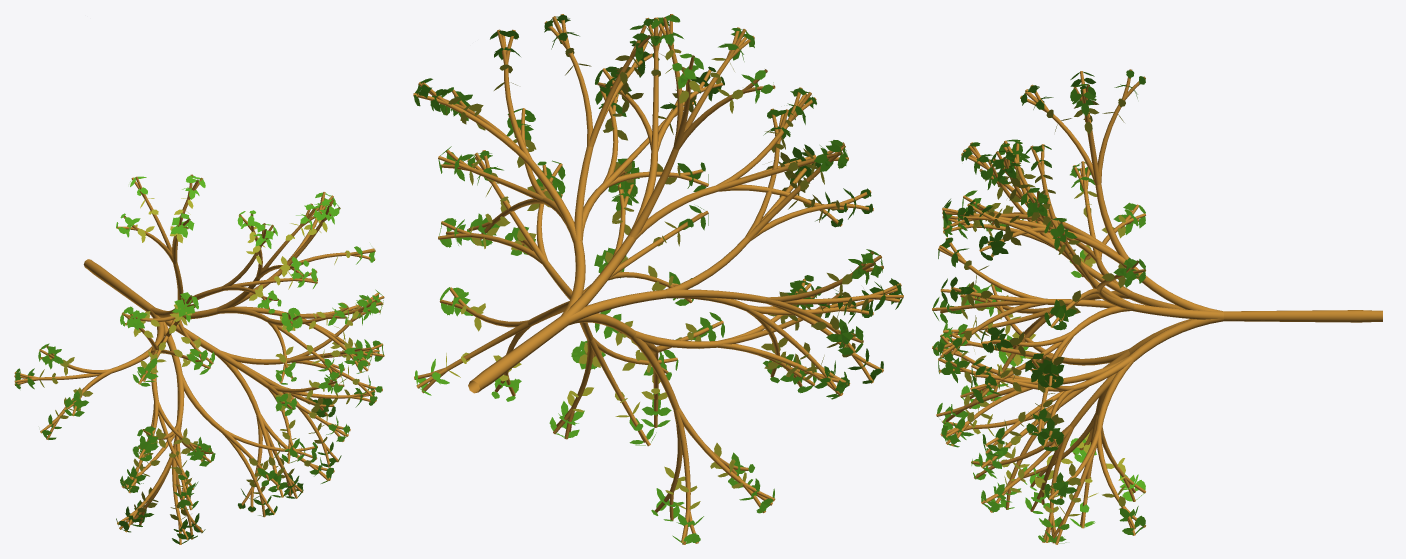
Rendered from schoute.obj.
3 renders of one model, left to right at view 1: azimuth 30°, elevation 25°; view 2: azimuth 150°, elevation 25°; view 3: azimuth 270°, elevation 25°, orthographic. The views are drawn at different scales.
Visible parts, largest first — view 1: SHAPEID_1_140482839329184; view 2: SHAPEID_1_140482839329184, SHAPEID_2829_140482839329488, SHAPEID_13_140482838718896, SHAPEID_30_140482908652496, SHAPEID_2846_140482839272608, SHAPEID_2241_140482839062144, SHAPEID_470_140482838715040, SHAPEID_2061_140482839093152, SHAPEID_2044_140482839212208, SHAPEID_3055_140482839319520, SHAPEID_675_140482838793264, SHAPEID_1009_140482838832144 (+3 smaller); view 3: SHAPEID_1_140482839329184, SHAPEID_1241_140482839042048, SHAPEID_2044_140482839212208, SHAPEID_2829_140482839329488, SHAPEID_2846_140482839272608.
Part boxes in pixels (bbox=[...]): SHAPEID_1_140482839329184: bbox=[83, 259, 154, 311]; SHAPEID_1_140482839329184: bbox=[468, 315, 569, 393]; SHAPEID_2829_140482839329488: bbox=[565, 235, 635, 317]; SHAPEID_13_140482838718896: bbox=[568, 289, 666, 325]; SHAPEID_30_140482908652496: bbox=[666, 289, 766, 303]; SHAPEID_2846_140482839272608: bbox=[629, 147, 678, 239]; SHAPEID_2241_140482839062144: bbox=[574, 146, 593, 241]; SHAPEID_470_140482838715040: bbox=[665, 237, 750, 291]; SHAPEID_2061_140482839093152: bbox=[527, 160, 580, 243]; SHAPEID_2044_140482839212208: bbox=[561, 240, 585, 315]; SHAPEID_3055_140482839319520: bbox=[635, 185, 718, 239]; SHAPEID_675_140482838793264: bbox=[629, 334, 679, 410]; SHAPEID_1009_140482838832144: bbox=[635, 330, 718, 348]; SHAPEID_1_140482839329184: bbox=[1223, 310, 1382, 322]; SHAPEID_1241_140482839042048: bbox=[1129, 318, 1223, 361]; SHAPEID_2044_140482839212208: bbox=[1132, 303, 1224, 319]; SHAPEID_2829_140482839329488: bbox=[1133, 266, 1222, 311]; SHAPEID_2846_140482839272608: bbox=[1095, 184, 1129, 259].
Size of the model in its own units: 31.25 by 38.13 by 30.34.
